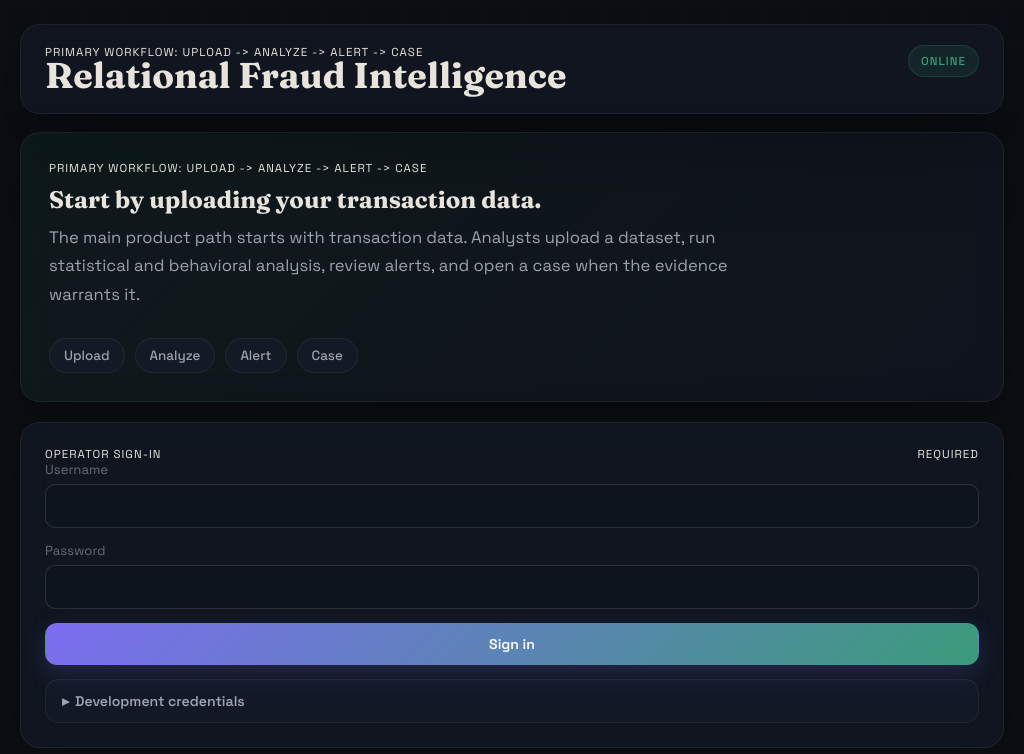
Test: Dashboard › loads case detail with transactions and posts an analyst comment
This screenshot has width=1024, height=754.
In the field labelled "Username": (512,506) [45,484,979,528], type "analyst"
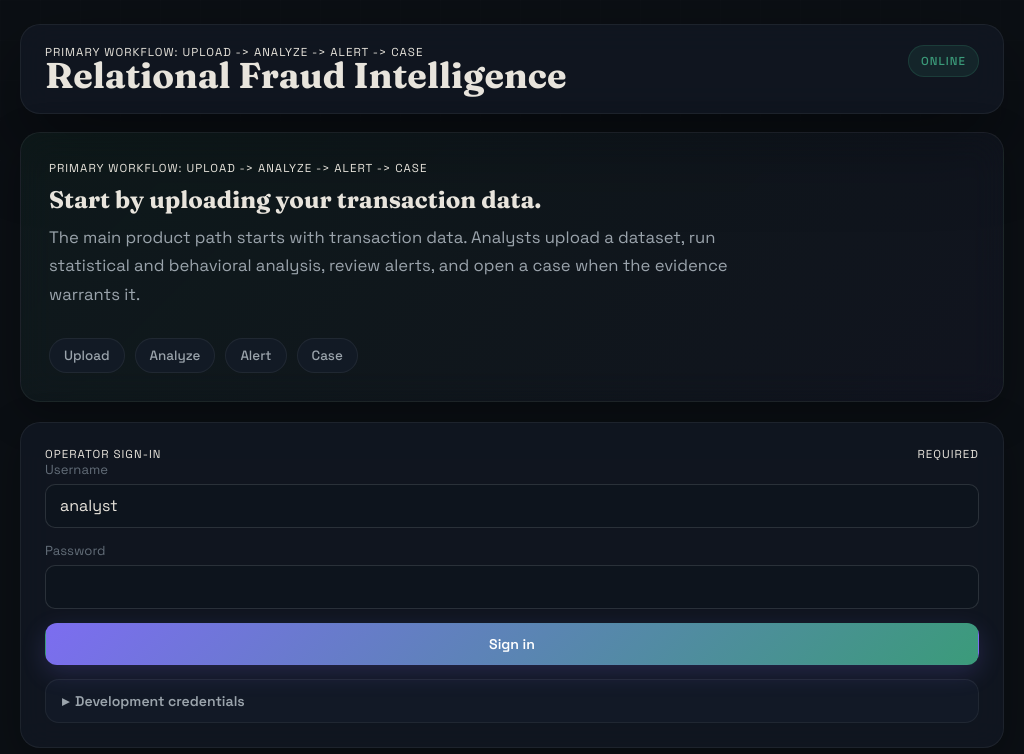
In the password field labelled "Password": (512,586) [45,564,979,608], type "AnalystPassword123!"
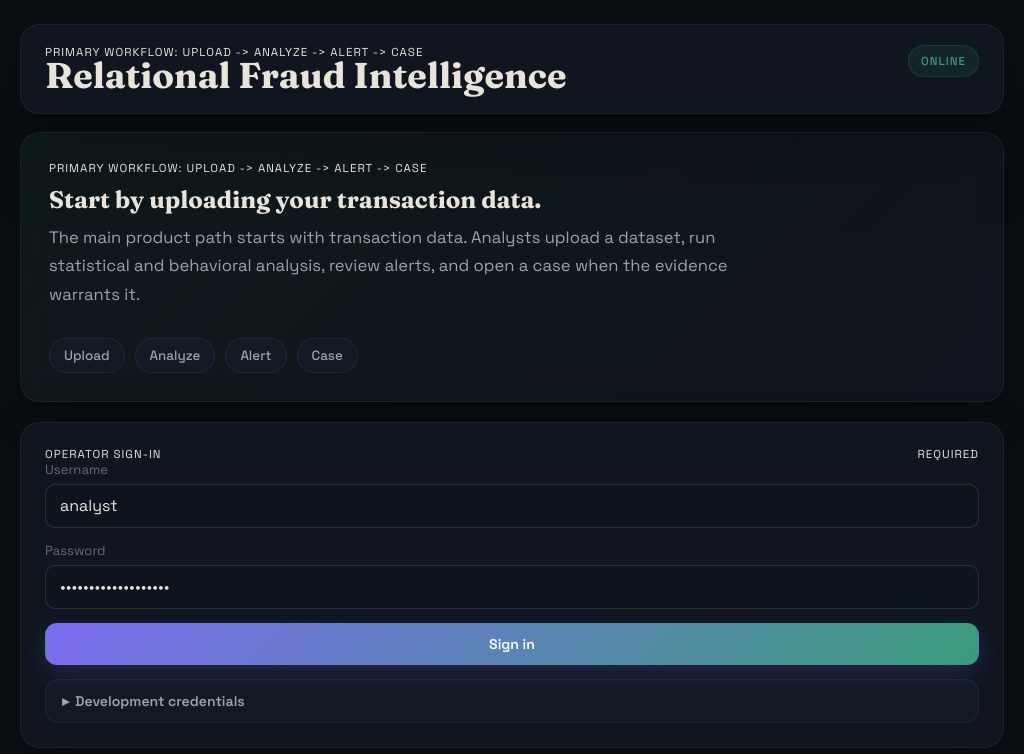
Submit the form "Sign in", box [45,460,979,664]
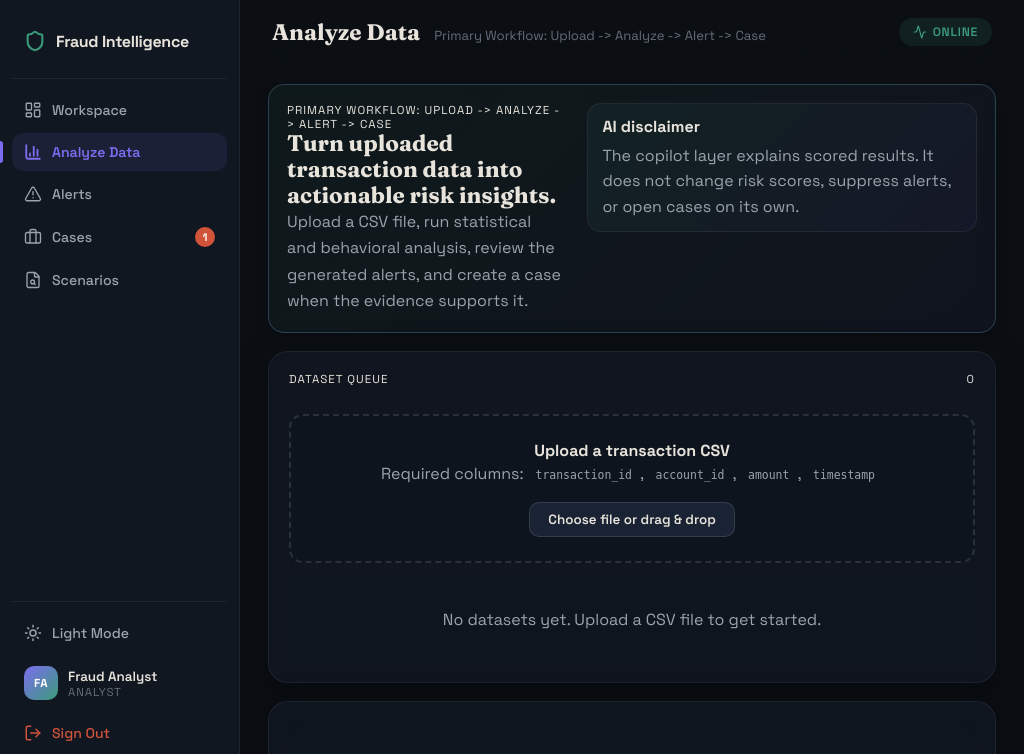
Click the button "Cases 1": (120,237) [12,217,227,257]
(page scrolled)
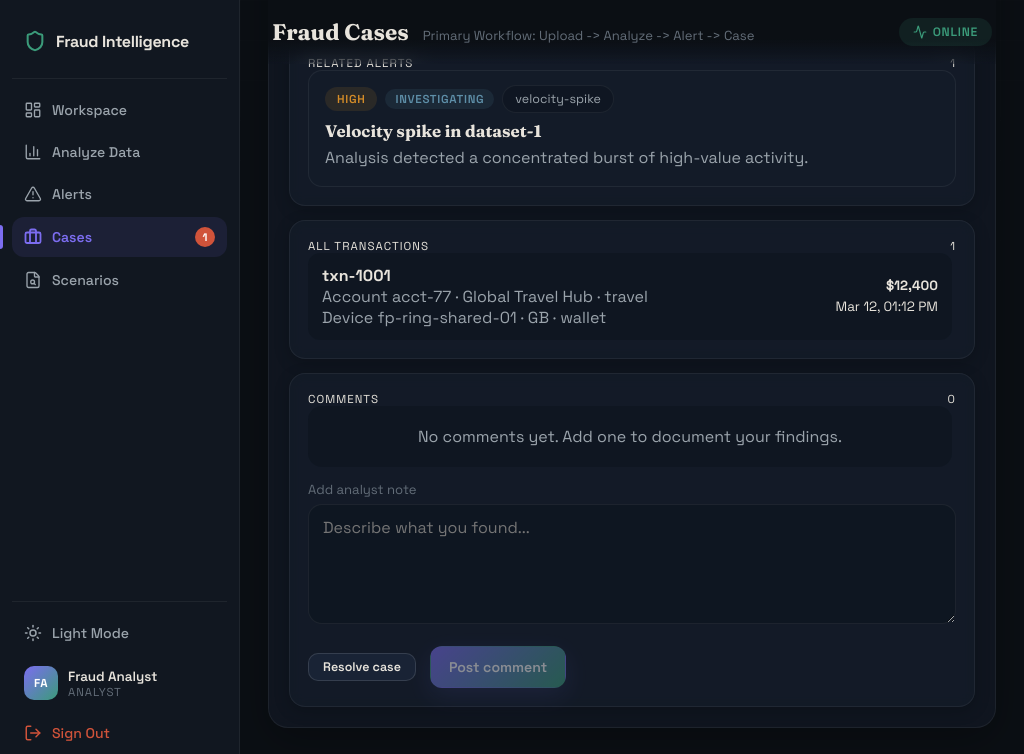
Expected: the text "All Transactions" is shown, [308,239,429,253]
Expected: the text "Account acct-77 · Global Travel Hub · travel" is shown, [322,286,648,307]
In the text box named "Add case comment": (632,564) [308,504,956,624], type "Reviewed the linked transactions and escalated the merchant/device overlap."
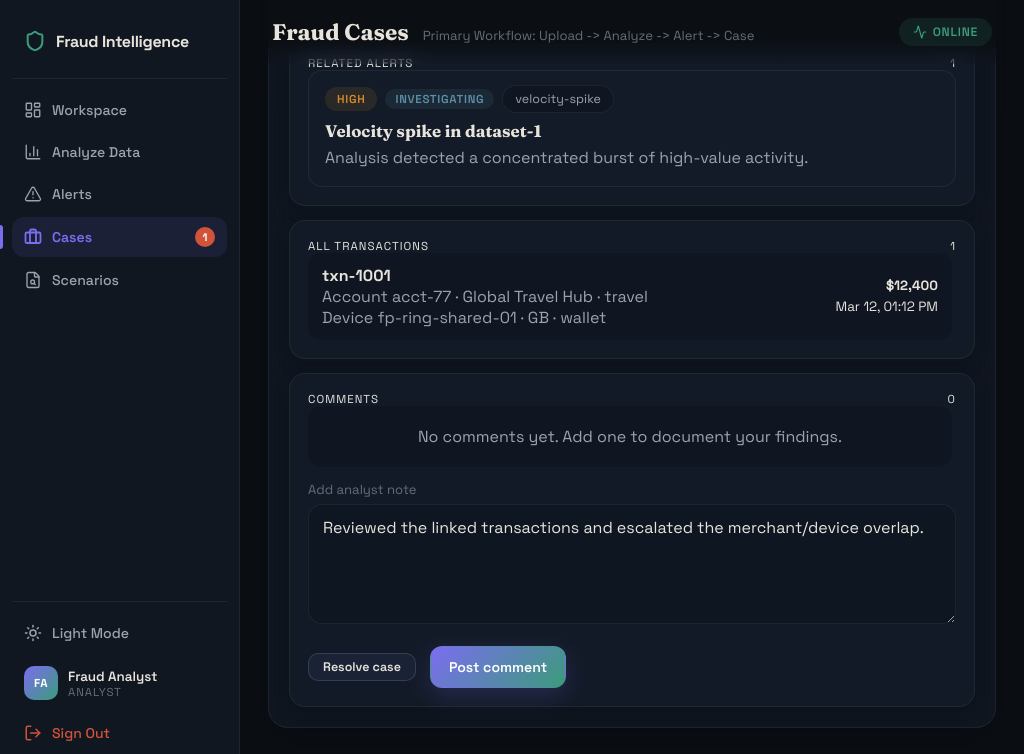
Click the button "Post comment": (498,667) [430,646,566,688]
(page scrolled)
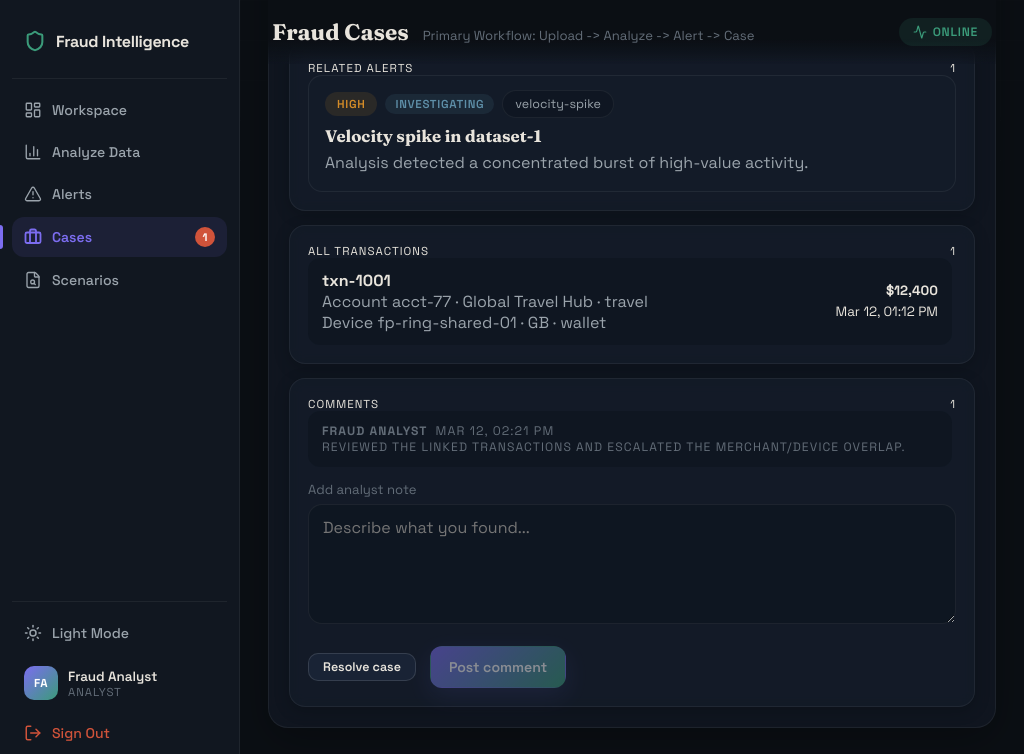
Expected: the text "Reviewed the linked transactions and escalated the merchant/device overlap." is shown, [322,439,938,455]
